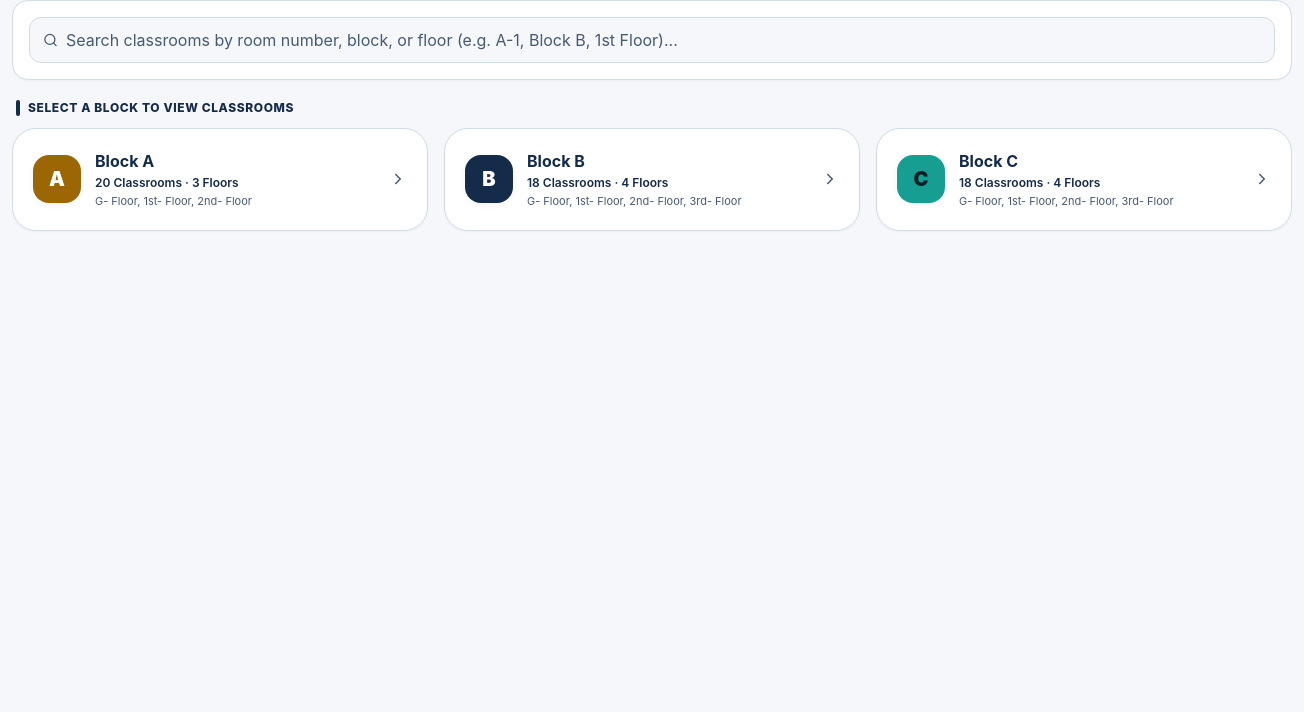
BlockClassroomsBrowser › displays Block A classrooms floor-wise matching the mobile UI when Block A is selected
Step 1. Click the button "Block A" → x=220, y=179, box [12, 128, 428, 230]
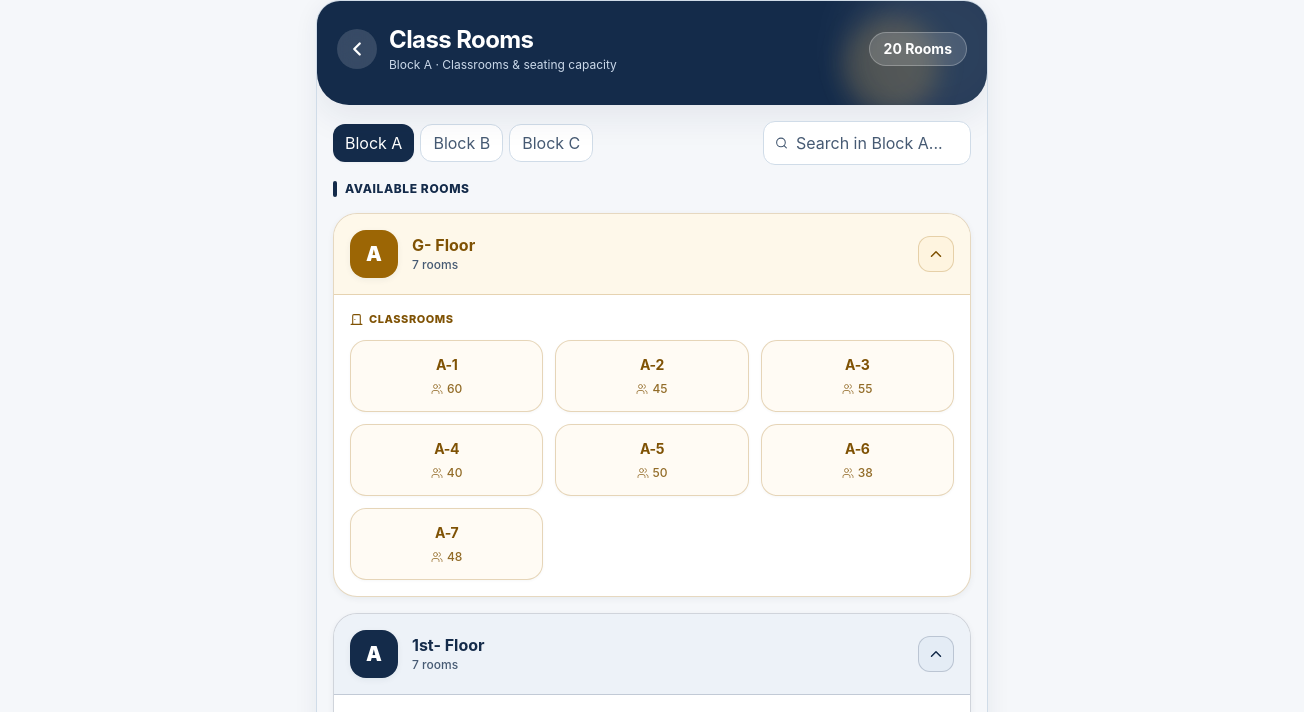
Result: the heading "Class Rooms" is shown at [389, 25, 533, 54]
Result: the text "20 Rooms" is shown at [869, 32, 967, 66]
Result: the text "AVAILABLE ROOMS" is shown at [345, 181, 470, 197]
Collapse G- Floor
Step 2. Click the button "A G- Floor 7 rooms" → x=374, y=254, box [334, 214, 970, 295]
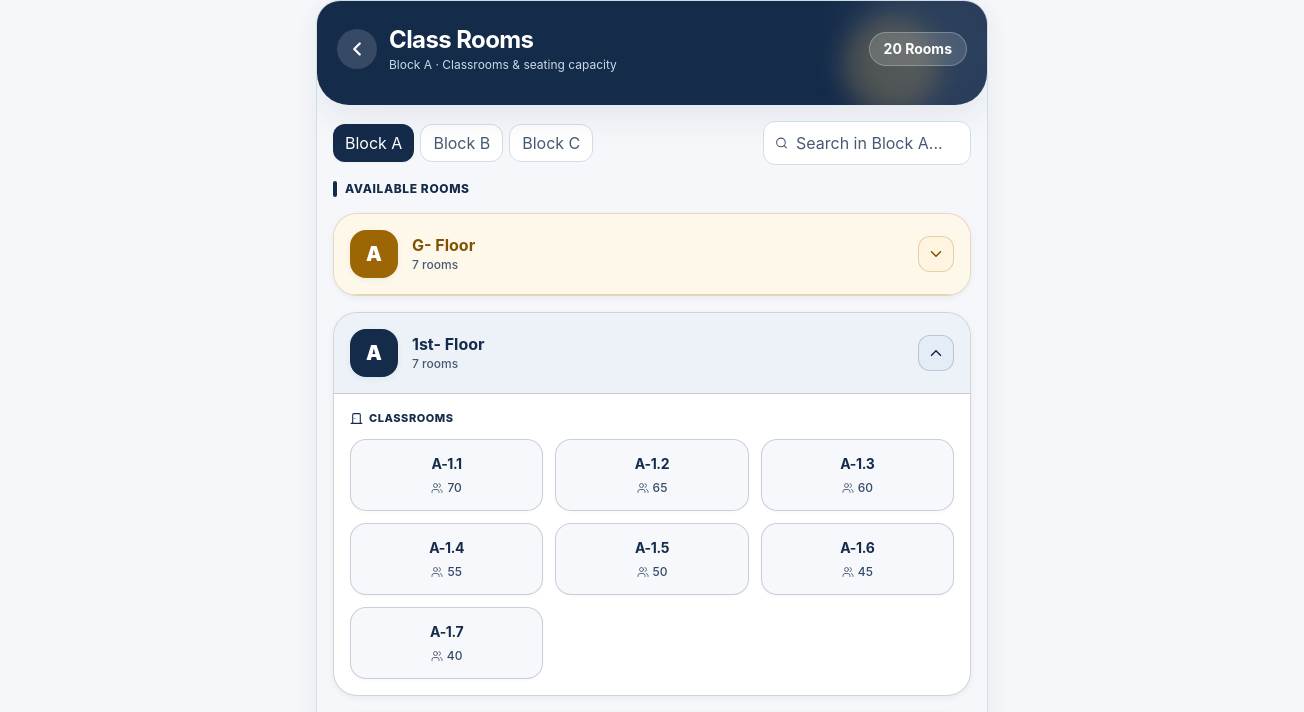
Result: the button "A-1 60" is gone
